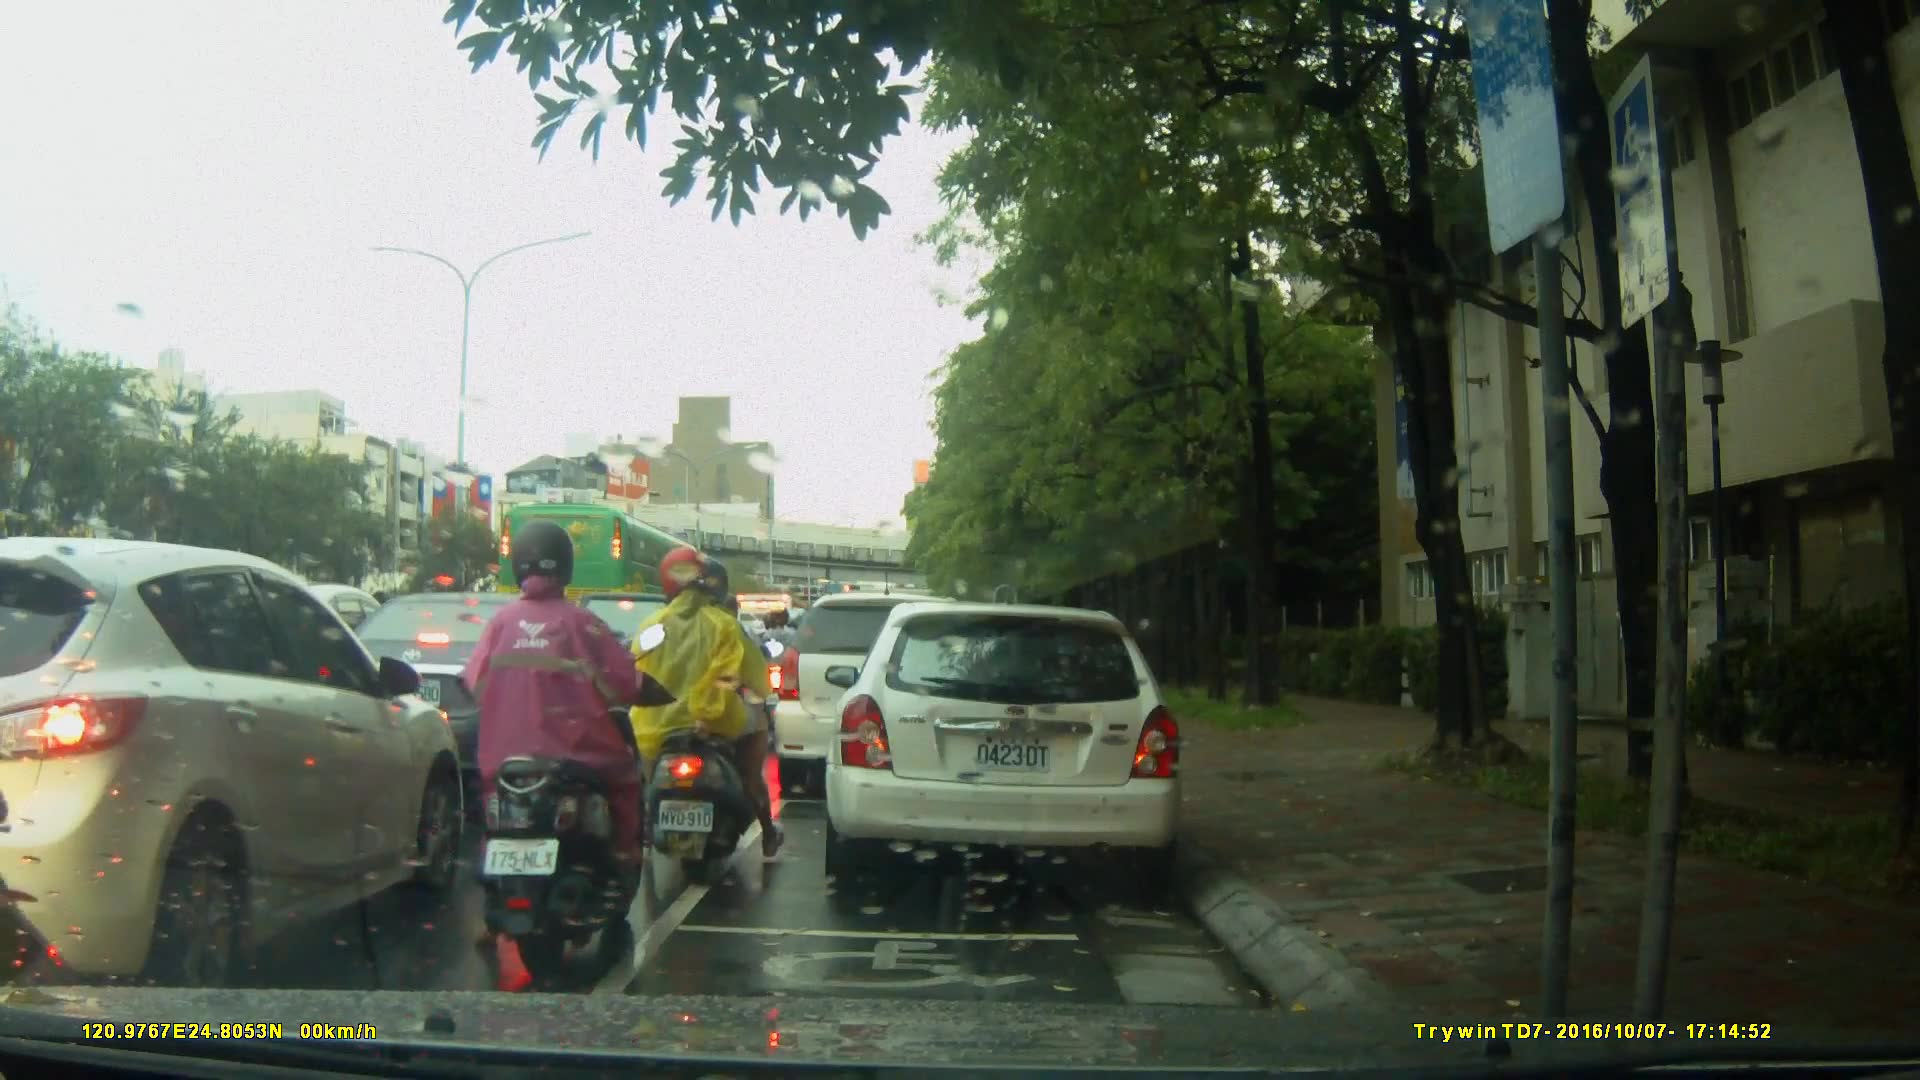rider: (467, 528, 645, 974), (625, 542, 786, 871), (702, 589, 784, 767), (753, 603, 811, 733)
vehicle: (4, 536, 467, 988), (831, 592, 1196, 897), (318, 589, 629, 776), (770, 590, 999, 804), (496, 500, 711, 636)
